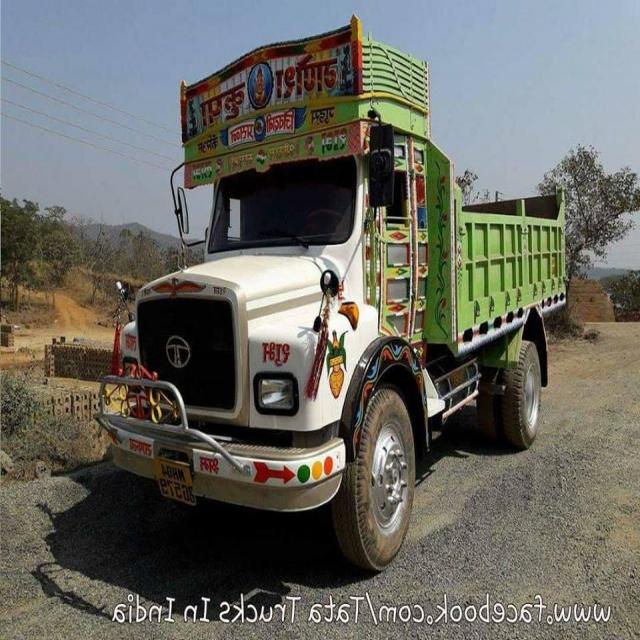truck: (98, 20, 576, 557)
